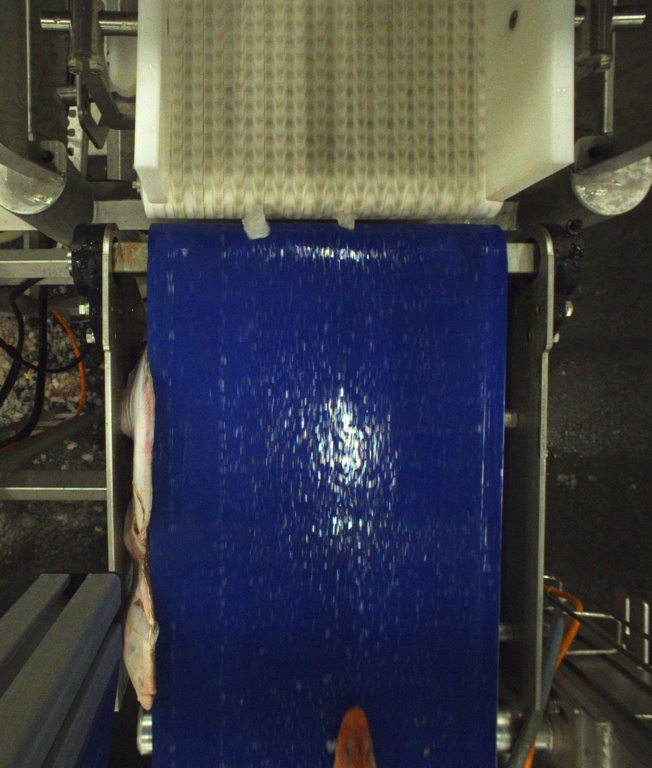GUU: (336, 709, 374, 768)
